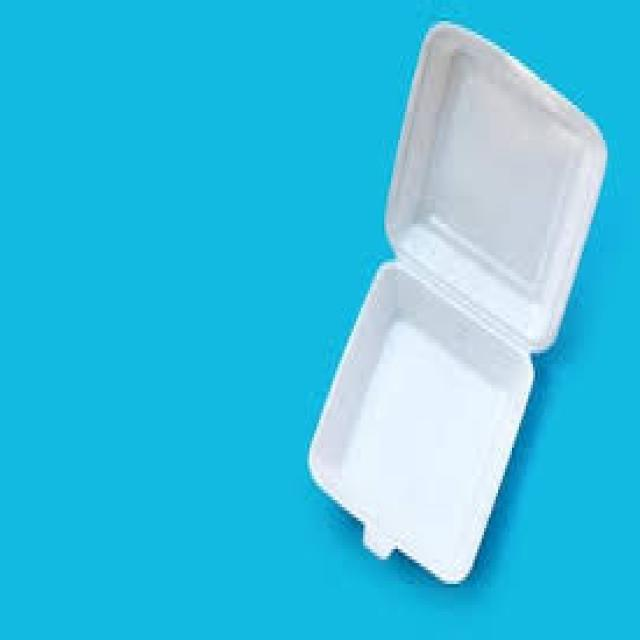styrofoam: (386, 26, 605, 350)
